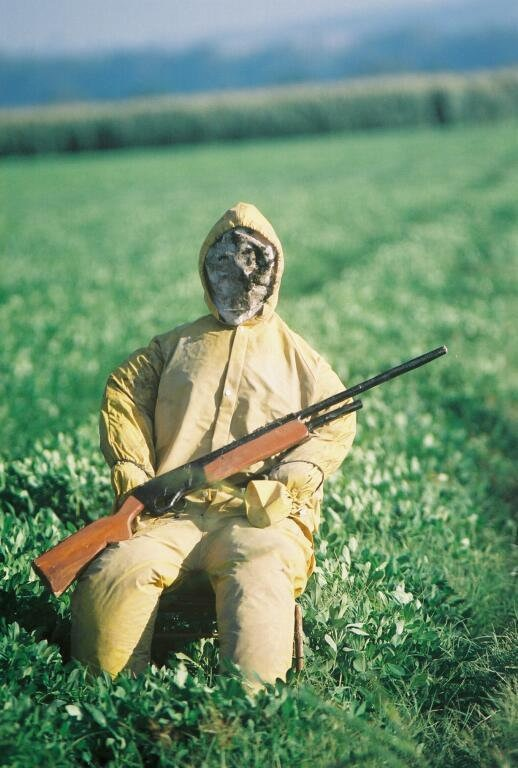person-like: (47, 177, 365, 700)
